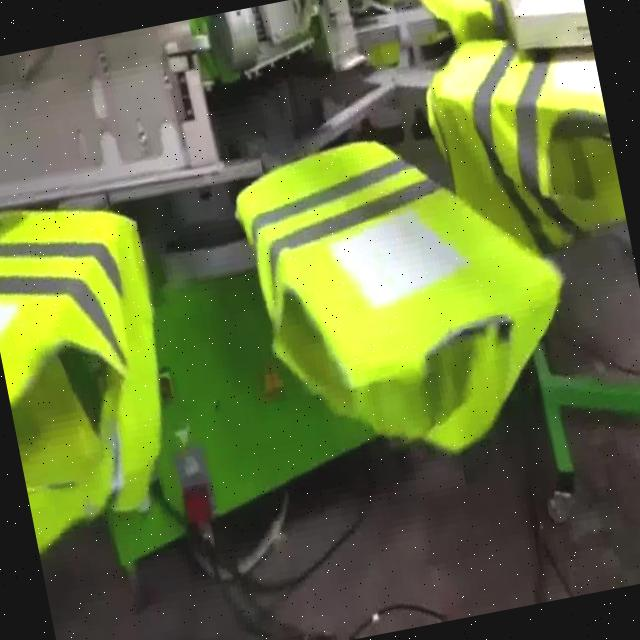vest: (222, 106, 598, 494), (0, 180, 200, 559), (412, 13, 630, 276), (409, 0, 521, 56)
